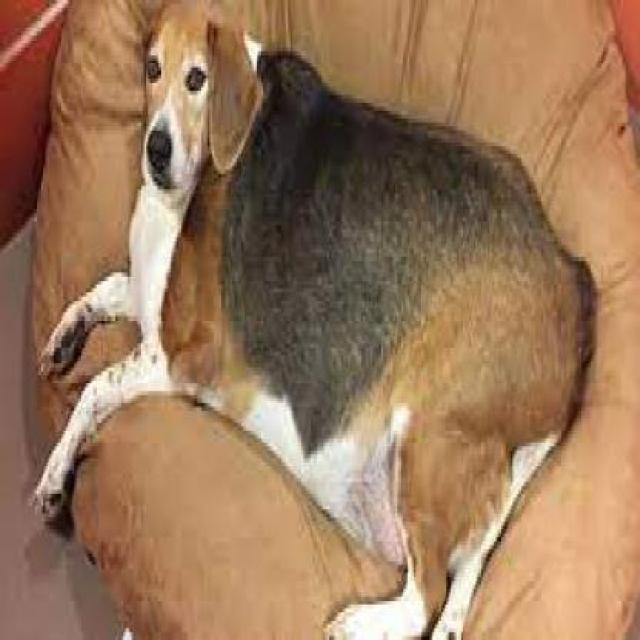Dog: (31, 1, 597, 638)
